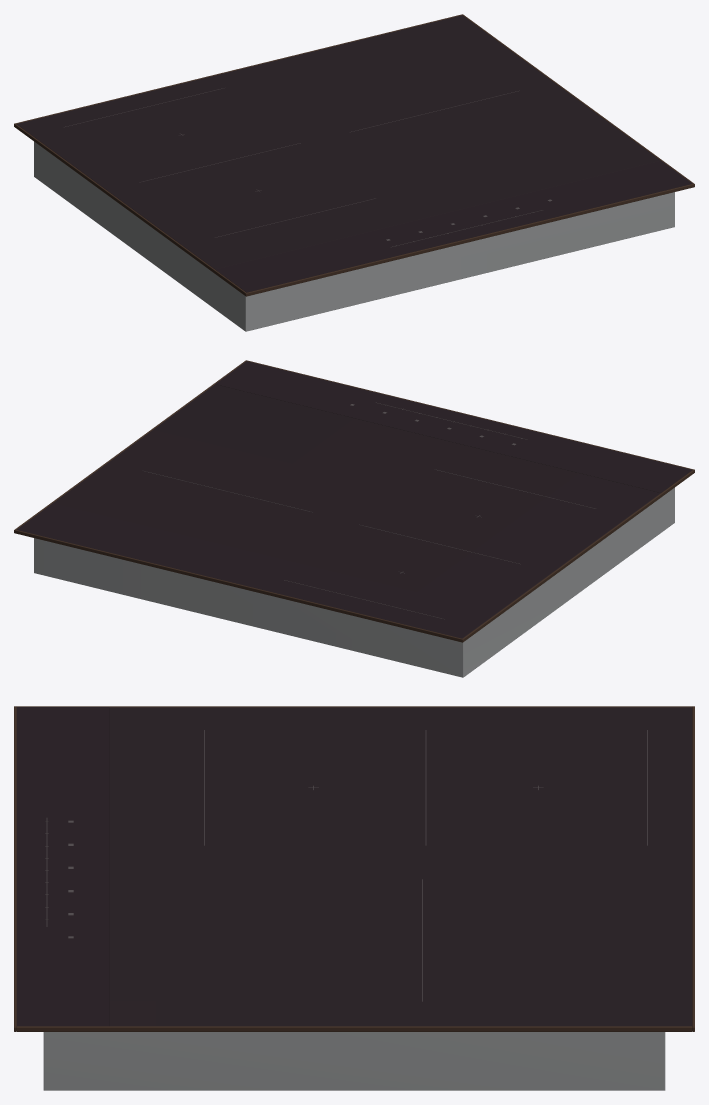
File: BEF3A-team-r1-5f524b.glb
The picture shows the model from 3 angles, top to bottom: view 1: azimuth 30°, elevation 25°; view 2: azimuth 150°, elevation 25°; view 3: azimuth 270°, elevation 25°; orthographic projection. The views are drawn at different scales.
Parts seen in each view (by area): view 1: GlassTop, EmbeddedBody, ControlPanel, TopEdgeFB1, RightZoneLine; view 2: GlassTop, EmbeddedBody, ControlPanel, TopEdgeFB1, RightZoneLine; view 3: GlassTop, EmbeddedBody, ControlPanel, TopEdgeFB1, RightZoneLine.
Boxes of the visible parts, x1,y1,x2,y2 form: GlassTop: (16, 15, 660, 269); EmbeddedBody: (34, 141, 674, 331); ControlPanel: (215, 160, 692, 292); TopEdgeFB1: (14, 14, 694, 296); RightZoneLine: (64, 88, 551, 247); GlassTop: (17, 384, 660, 638); EmbeddedBody: (34, 487, 674, 677); ControlPanel: (215, 361, 692, 492); TopEdgeFB1: (14, 360, 694, 642); RightZoneLine: (144, 402, 595, 619); GlassTop: (109, 707, 692, 1026); EmbeddedBody: (43, 1032, 665, 1090); ControlPanel: (16, 707, 109, 1026); TopEdgeFB1: (14, 706, 694, 1031); RightZoneLine: (45, 730, 647, 1001).
Bounding box in the file's own units: 0.575 × 0.059 × 0.515.
